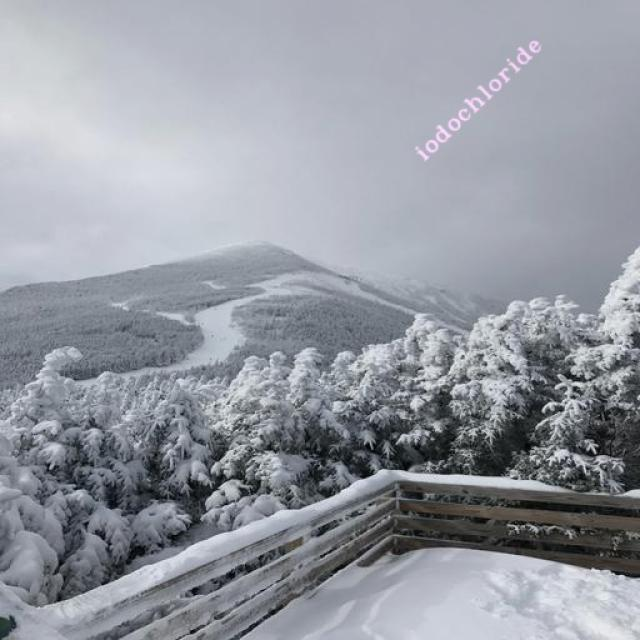watermark: (416, 26, 543, 165)
